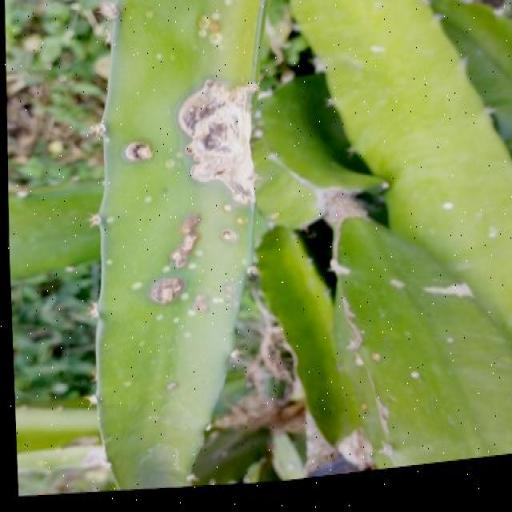stemcanker: (192, 7, 230, 53), (219, 202, 249, 245), (170, 312, 194, 345), (208, 286, 231, 316), (187, 250, 210, 274), (126, 275, 148, 297), (118, 372, 140, 394), (138, 188, 158, 210), (162, 152, 178, 172), (158, 258, 174, 277), (153, 310, 167, 326), (104, 215, 120, 229), (143, 7, 156, 24), (178, 290, 194, 303), (152, 49, 168, 62), (105, 254, 117, 270)
